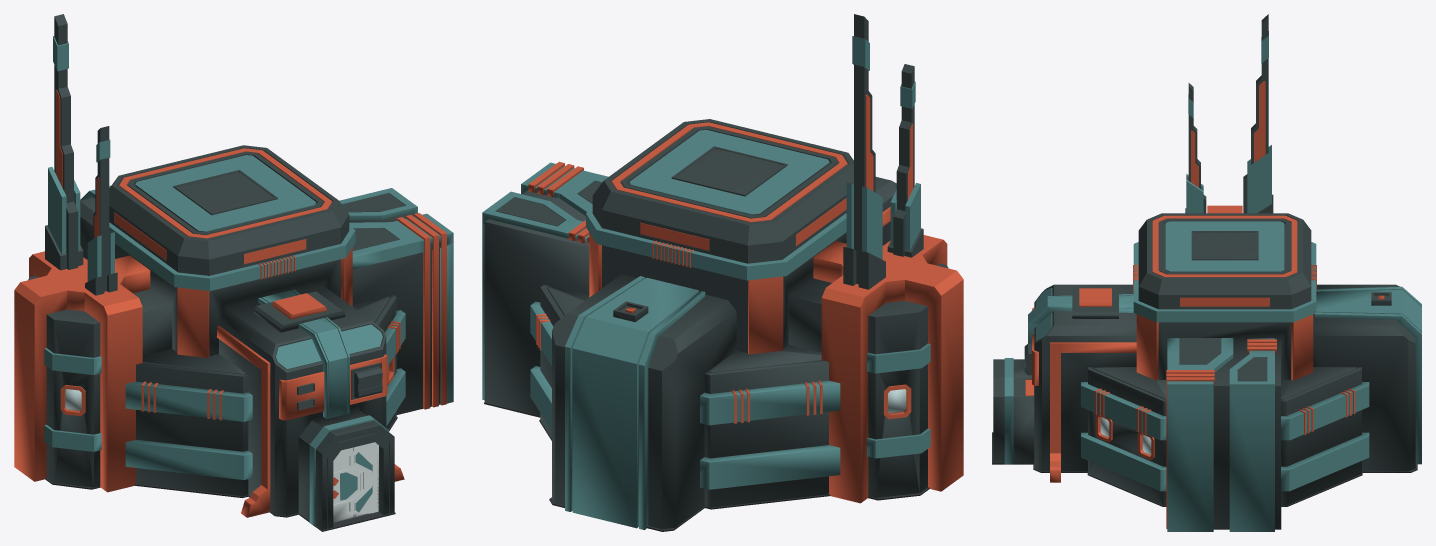
File: BaseCamp_Mesh.fbx
The picture shows the model from 3 angles, left to right: view 1: azimuth 30°, elevation 25°; view 2: azimuth 150°, elevation 25°; view 3: azimuth 270°, elevation 25°; orthographic projection. The views are drawn at different scales.
Parts seen in each view (by area): view 1: TP_Sci_fi01, TP_Sci_fi01 Door; view 2: TP_Sci_fi01; view 3: TP_Sci_fi01.
Part boxes in pixels (x1,y1,x2,y2): TP_Sci_fi01: (14,14,453,531); TP_Sci_fi01 Door: (333,442,378,522); TP_Sci_fi01: (482,14,963,531); TP_Sci_fi01: (992,14,1421,531).
Size of the model in its own units: 678 by 698 by 730.
Materials: 1 (1 with a texture image).
